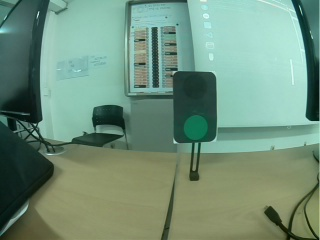green_light: (172, 70, 219, 143)
